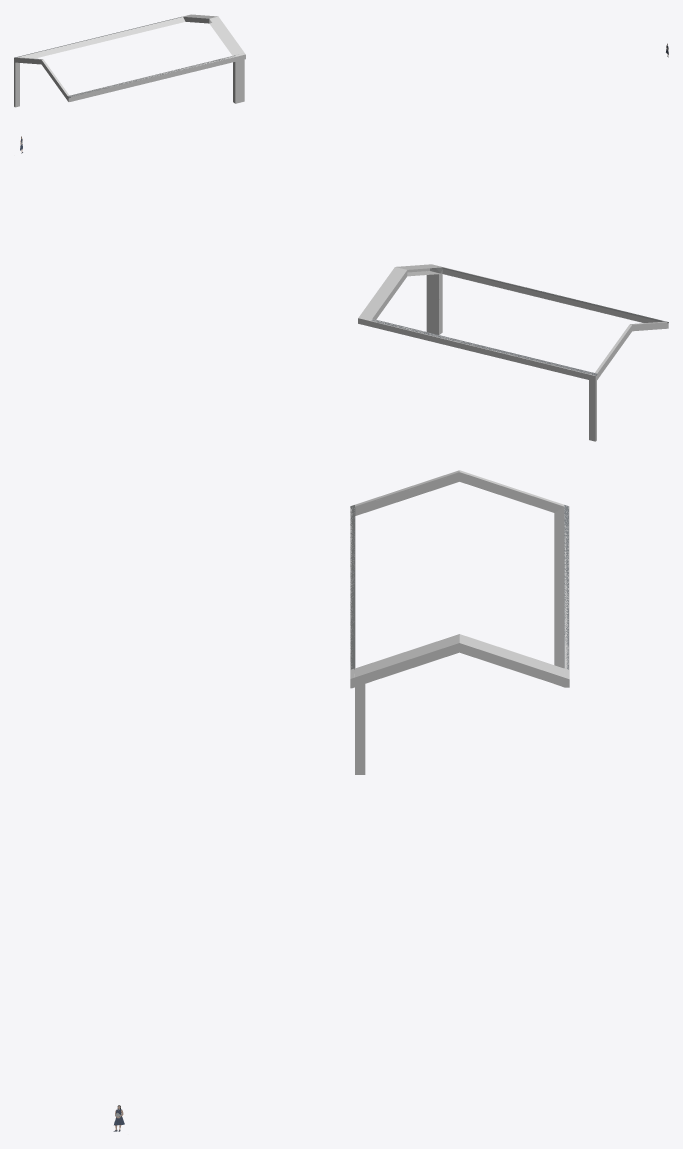
File: CENEFA_ESTILO_2.glb
The picture shows the model from 3 angles, top to bottom: view 1: azimuth 30°, elevation 25°; view 2: azimuth 150°, elevation 25°; view 3: azimuth 270°, elevation 25°; orthographic projection. The views are drawn at different scales.
Visible parts, largest first — view 1: Geom3D (×5); view 2: Geom3D (×5); view 3: Geom3D (×3).
Boxes of the visible parts, <box> form: Geom3D (×5): <box>14,14,245,107</box>; Geom3D (×5): <box>358,264,668,441</box>; Geom3D (×3): <box>350,470,569,774</box>.
Bounding box in the file's own units: 68.99 × 8.13 × 25.04.
